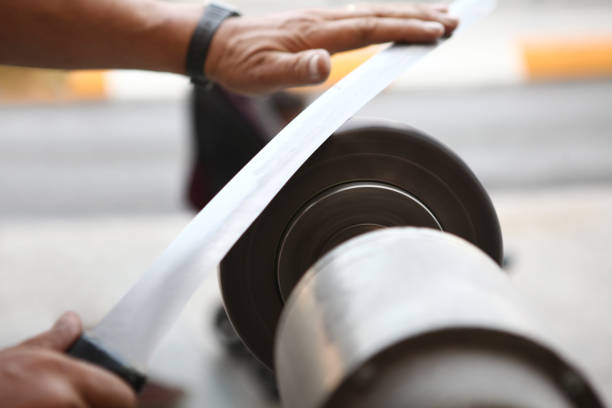knife: (66, 32, 452, 393)
